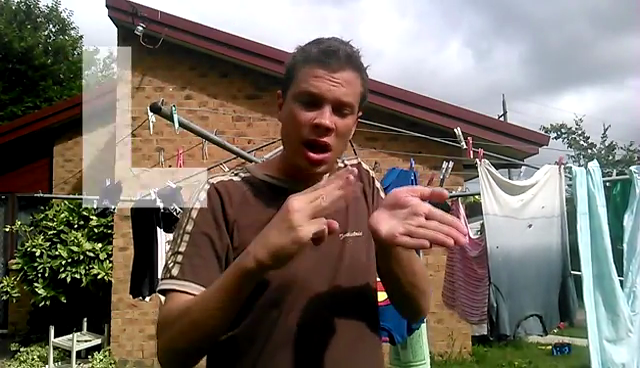M: (241, 164, 473, 276)
